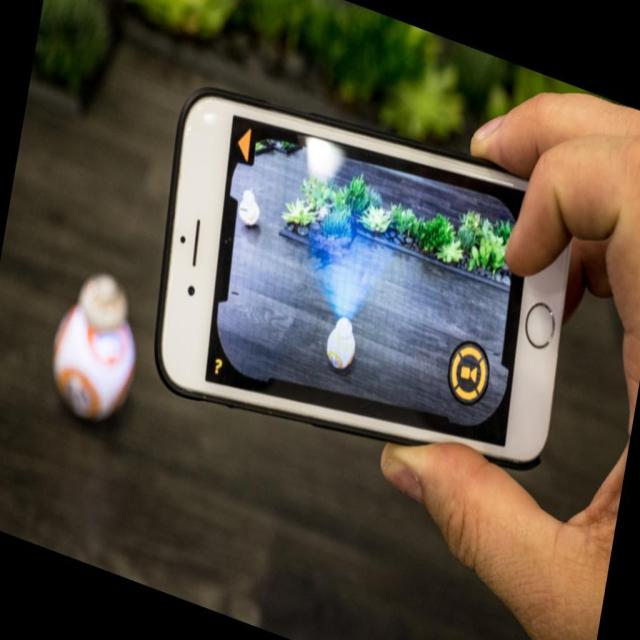handphone: (164, 97, 575, 450)
